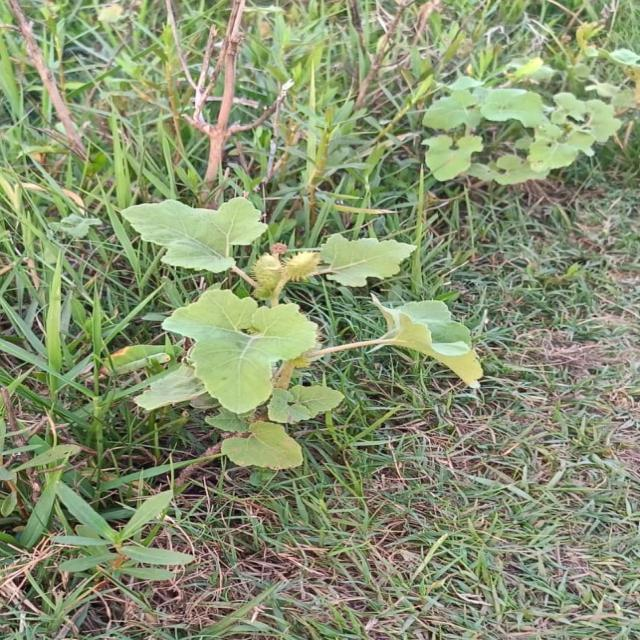weed: (121, 197, 483, 470), (424, 78, 621, 183)
